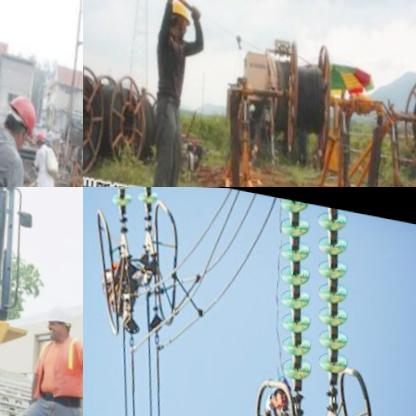helmet: (0, 89, 39, 145), (156, 0, 198, 42), (38, 299, 72, 340), (260, 368, 294, 409), (25, 125, 45, 148)
